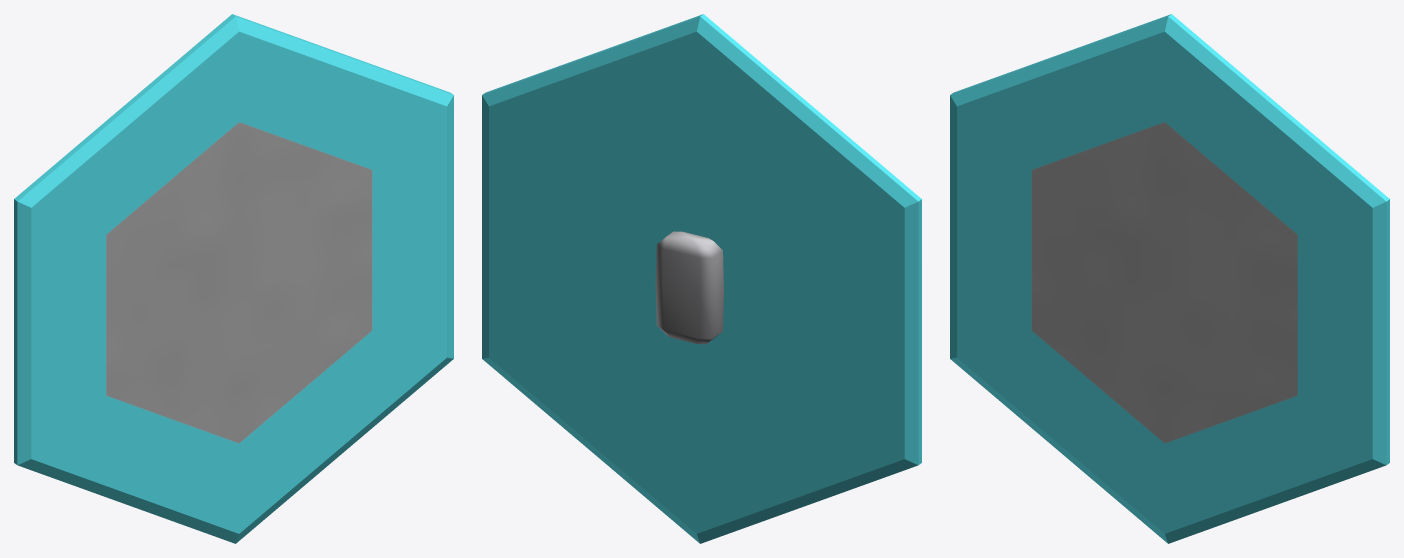
The model's file is bouclier-energie.glb.
The picture shows the model from 3 angles, left to right: view 1: azimuth 30°, elevation 25°; view 2: azimuth 150°, elevation 25°; view 3: azimuth 330°, elevation 25°; orthographic projection.
Parts seen in each view (by area): view 1: bouclier-energie; view 2: bouclier-energie; view 3: bouclier-energie.
Boxes of the visible parts, <box> form: bouclier-energie: <box>14,14,453,543</box>; bouclier-energie: <box>482,14,921,543</box>; bouclier-energie: <box>950,14,1389,543</box>.
Size of the model in its own units: 0.7275 by 0.84 by 0.074.
Materials: 1 (1 with a texture image).
